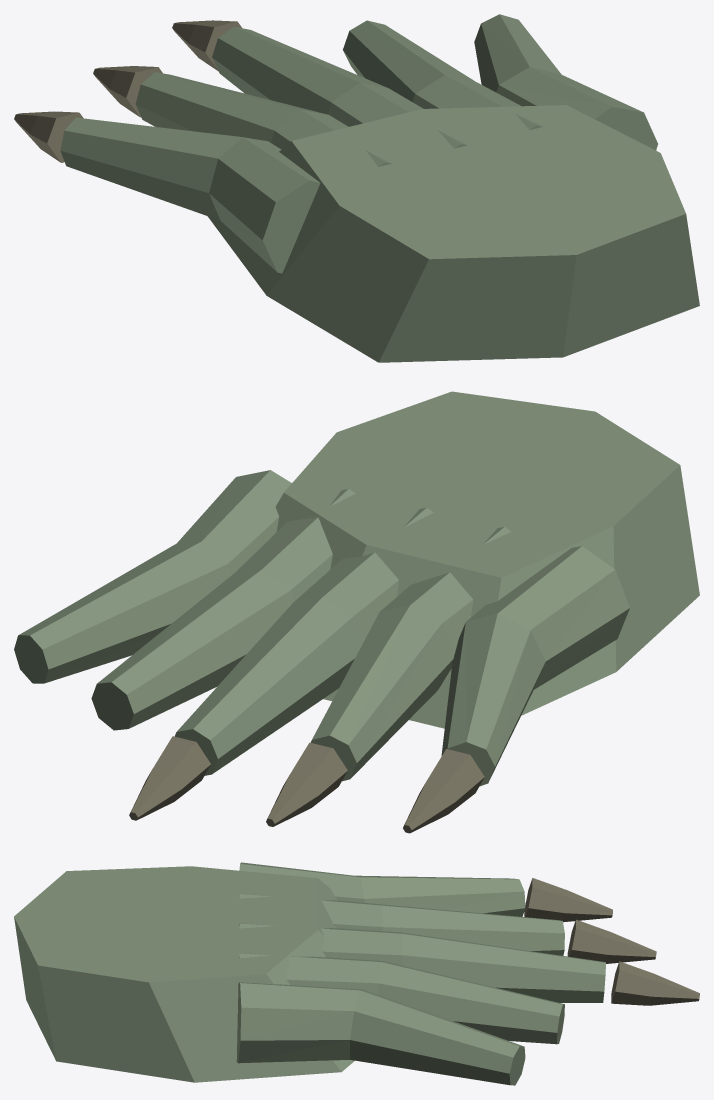
The model's file is croc_foot_fl_01.glb.
3 renders of one model, top to bottom at view 1: azimuth 30°, elevation 25°; view 2: azimuth 150°, elevation 25°; view 3: azimuth 270°, elevation 25°, orthographic. The views are drawn at different scales.
Parts seen in each view (by area): view 1: FrontLPalm, FrontLToe0, FrontLToe2, FrontLToe1, FrontLToe4, FrontLToe3, FrontLClaw0, FrontLClaw1, FrontLClaw2; view 2: FrontLPalm, FrontLToe0, FrontLToe4, FrontLToe2, FrontLToe3, FrontLToe1, FrontLClaw2, FrontLClaw0, FrontLClaw1; view 3: FrontLPalm, FrontLToe4, FrontLToe2, FrontLToe3, FrontLToe1, FrontLToe0, FrontLClaw2, FrontLClaw0, FrontLClaw1.
Boxes of the visible parts, left/top/right/bottom form: FrontLPalm: left=207, top=105, right=699, bottom=362; FrontLToe0: left=60, top=117, right=320, bottom=273; FrontLToe2: left=212, top=26, right=467, bottom=148; FrontLToe1: left=135, top=72, right=391, bottom=166; FrontLToe4: left=474, top=14, right=657, bottom=150; FrontLToe3: left=343, top=20, right=542, bottom=129; FrontLClaw0: left=14, top=111, right=83, bottom=162; FrontLClaw1: left=93, top=66, right=162, bottom=117; FrontLClaw2: left=172, top=20, right=241, bottom=70; FrontLPalm: left=275, top=391, right=699, bottom=728; FrontLToe0: left=441, top=546, right=629, bottom=786; FrontLToe4: left=14, top=470, right=291, bottom=683; FrontLToe2: left=174, top=507, right=433, bottom=775; FrontLToe3: left=91, top=489, right=355, bottom=730; FrontLToe1: left=310, top=527, right=511, bottom=781; FrontLClaw2: left=129, top=736, right=210, bottom=820; FrontLClaw0: left=403, top=749, right=484, bottom=833; FrontLClaw1: left=266, top=742, right=347, bottom=826; FrontLPalm: left=14, top=866, right=354, bottom=1082; FrontLToe4: left=236, top=982, right=525, bottom=1085; FrontLToe2: left=239, top=923, right=605, bottom=1002; FrontLToe3: left=239, top=953, right=564, bottom=1044; FrontLToe1: left=239, top=893, right=564, bottom=955; FrontLToe0: left=239, top=862, right=525, bottom=916; FrontLClaw2: left=611, top=961, right=699, bottom=1005; FrontLClaw0: left=524, top=878, right=612, bottom=922; FrontLClaw1: left=567, top=919, right=656, bottom=963.
Size of the model in its own units: 0.161 by 0.036 by 0.2527.
